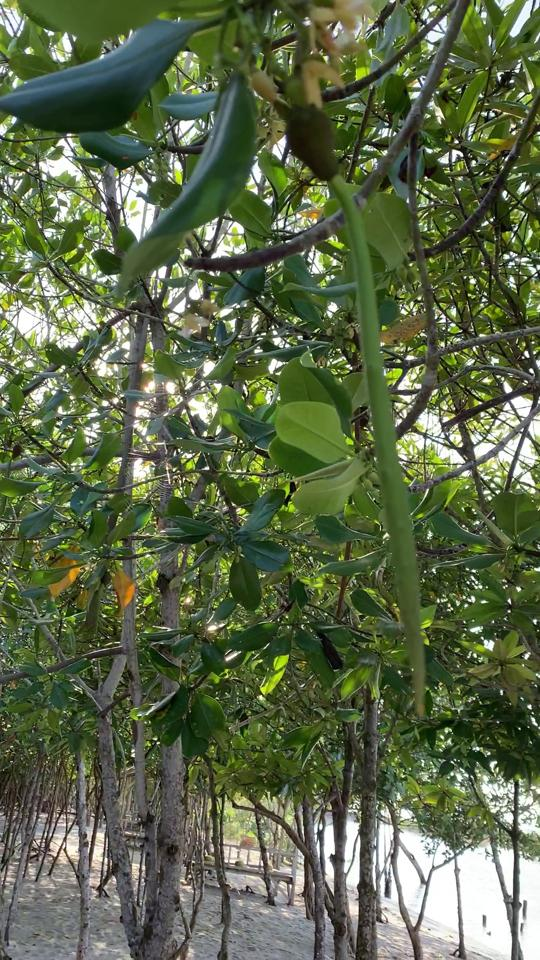mentah: (268, 97, 441, 736)
